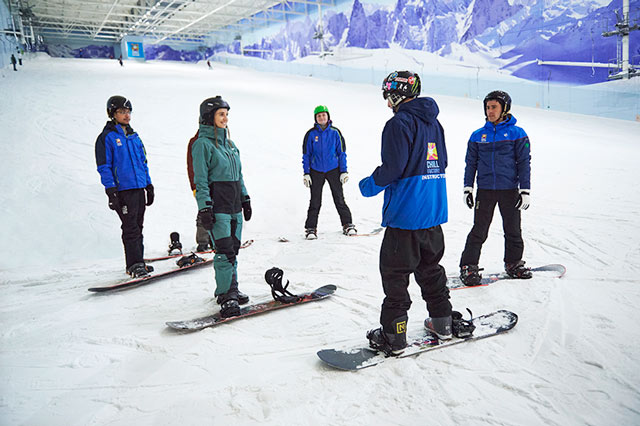snowboarder: (320, 72, 517, 367), (172, 101, 275, 335), (449, 89, 566, 285), (277, 103, 381, 244)
